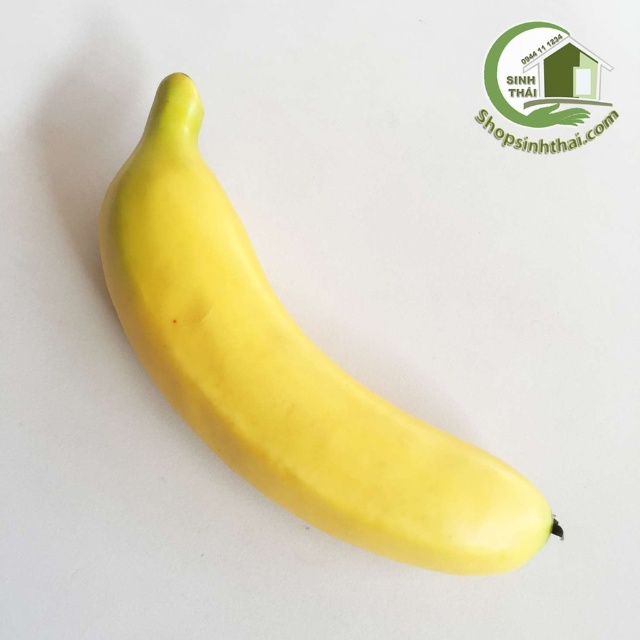chuoi: (95, 75, 564, 579)
